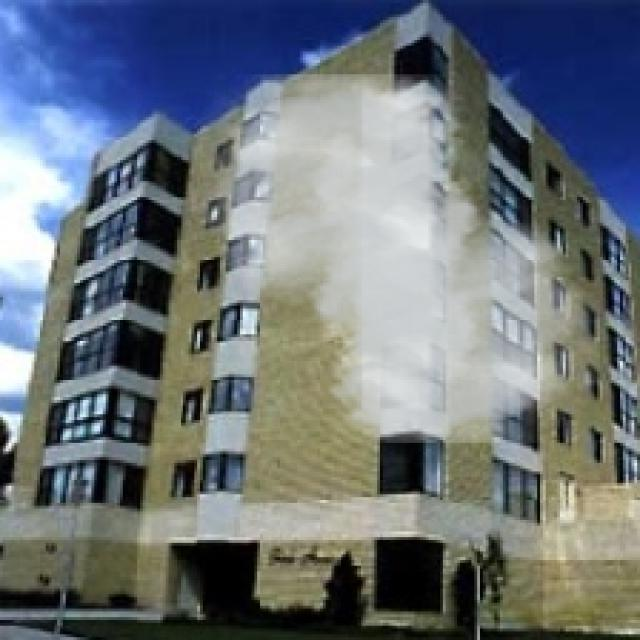Smoke: (191, 74, 600, 443)
